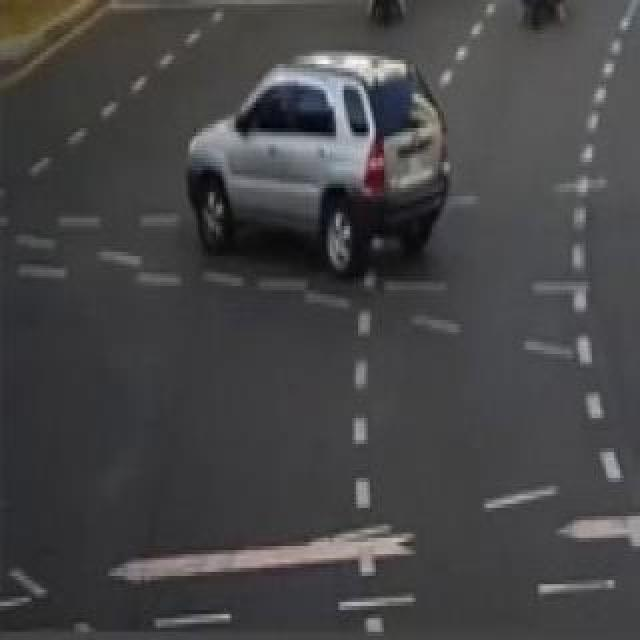motorbike: (516, 0, 568, 34), (354, 0, 412, 26)
